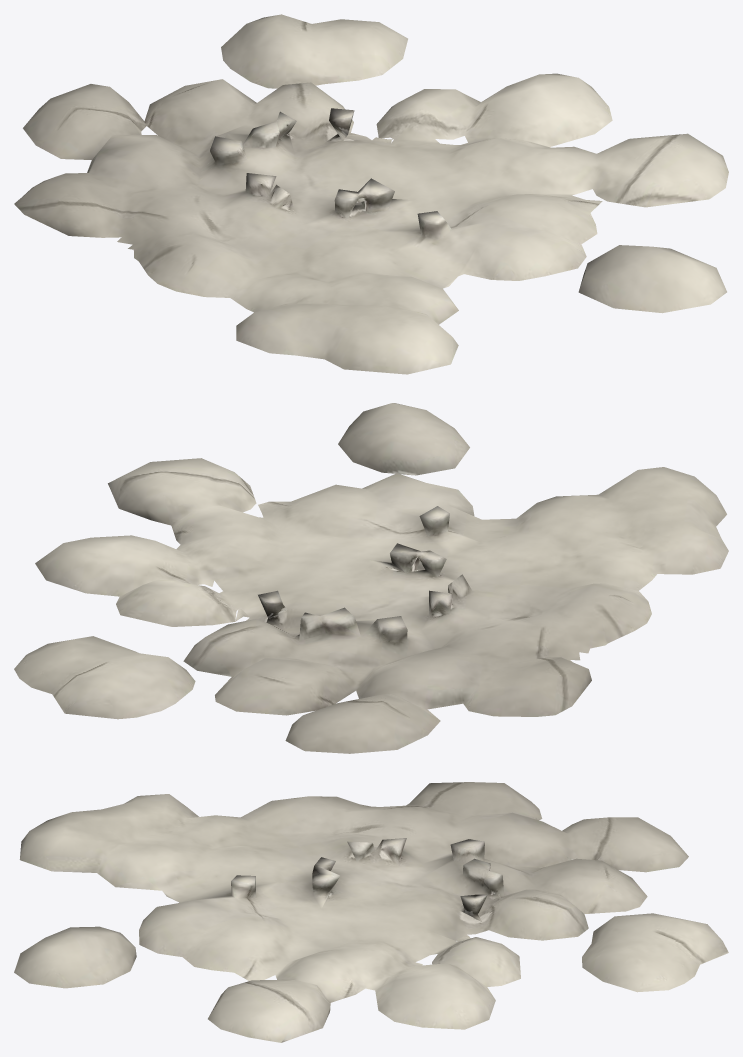
Rendered from lichen.glb.
3 views of the same model, one above another, from view 1: azimuth 30°, elevation 25°; view 2: azimuth 150°, elevation 25°; view 3: azimuth 270°, elevation 25° (orthographic). The views are drawn at different scales.
Visible parts, largest first — view 1: tint_crust; view 2: tint_crust; view 3: tint_crust.
Part boxes in pixels (x1,y1,x2,y2): tint_crust: (14, 14, 728, 374); tint_crust: (14, 403, 728, 753); tint_crust: (14, 782, 728, 1042).
Bounding box in the file's own units: 0.352 × 0.0208 × 0.416.
1 material, 1 textured.
